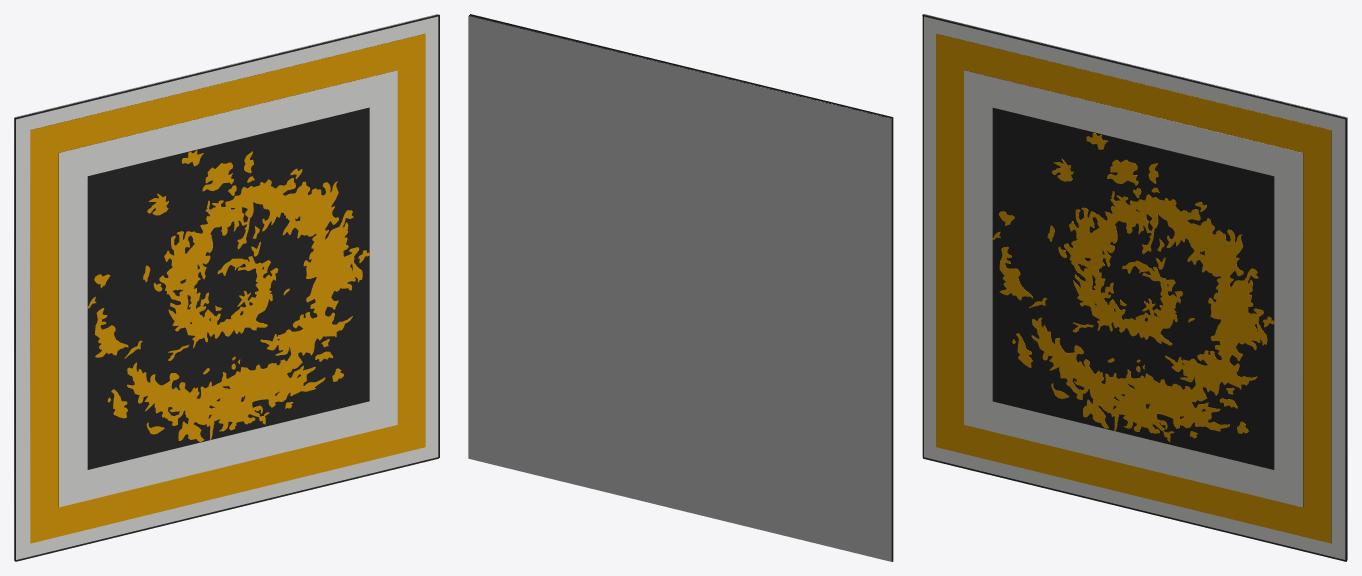
3 views of the same model, side by side, from view 1: azimuth 30°, elevation 25°; view 2: azimuth 150°, elevation 25°; view 3: azimuth 330°, elevation 25° (orthographic).
Parts seen in each view (by area): view 1: ID15b_p14, ID15b_p11, ID15b_p13, ID15b_p15, ID15b_p01, ID15b_p04, ID15b_p08, ID15b_dos, ID15b_p02, ID15b_p06; view 2: ID15b_dos, ID15b_p00, ID15b_p08, ID15b_p02; view 3: ID15b_p14, ID15b_p11, ID15b_p13, ID15b_p15, ID15b_p01, ID15b_p08, ID15b_p04, ID15b_dos, ID15b_p06, ID15b_p02, ID15b_p00, ID15b_p10.
Part boxes in pixels (x1,y1,x2,y2): ID15b_p14: (87, 107, 369, 469); ID15b_p11: (30, 34, 425, 543); ID15b_p13: (59, 70, 397, 507); ID15b_p15: (87, 150, 369, 441); ID15b_p01: (16, 14, 438, 559); ID15b_p04: (15, 457, 438, 561); ID15b_p08: (15, 14, 439, 119); ID15b_dos: (14, 14, 437, 559); ID15b_p02: (14, 118, 15, 560); ID15b_p06: (438, 15, 439, 458); ID15b_dos: (468, 16, 891, 561); ID15b_p00: (469, 15, 892, 561); ID15b_p08: (470, 14, 893, 118); ID15b_p02: (892, 118, 893, 561); ID15b_p14: (992, 107, 1274, 469); ID15b_p11: (936, 34, 1331, 543); ID15b_p13: (964, 70, 1302, 507); ID15b_p15: (992, 133, 1273, 442); ID15b_p01: (924, 14, 1346, 559); ID15b_p08: (922, 14, 1345, 119); ID15b_p04: (923, 457, 1346, 561); ID15b_dos: (924, 14, 1347, 559); ID15b_p06: (1345, 118, 1346, 561); ID15b_p02: (922, 16, 923, 457); ID15b_p00: (923, 14, 1347, 560); ID15b_p10: (942, 35, 1331, 543).
Size of the model in its own units: 0.7 by 0.6997 by 0.0079.
